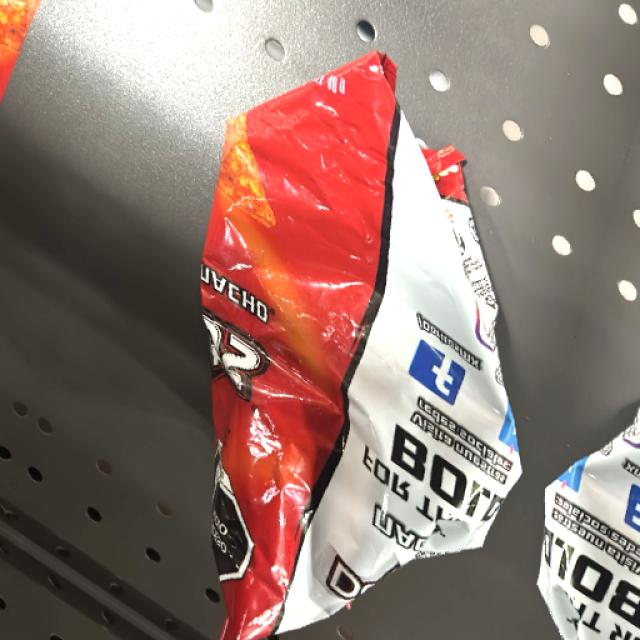doritosNacho: (205, 95, 477, 606)
